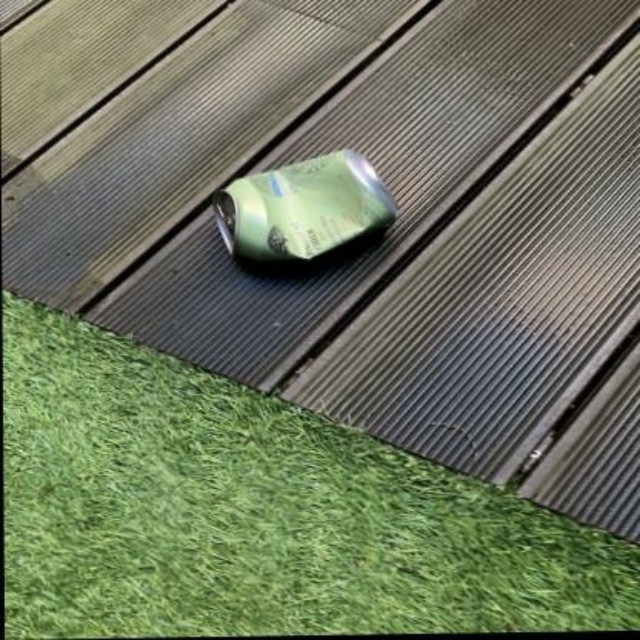trash: (212, 149, 394, 260)
